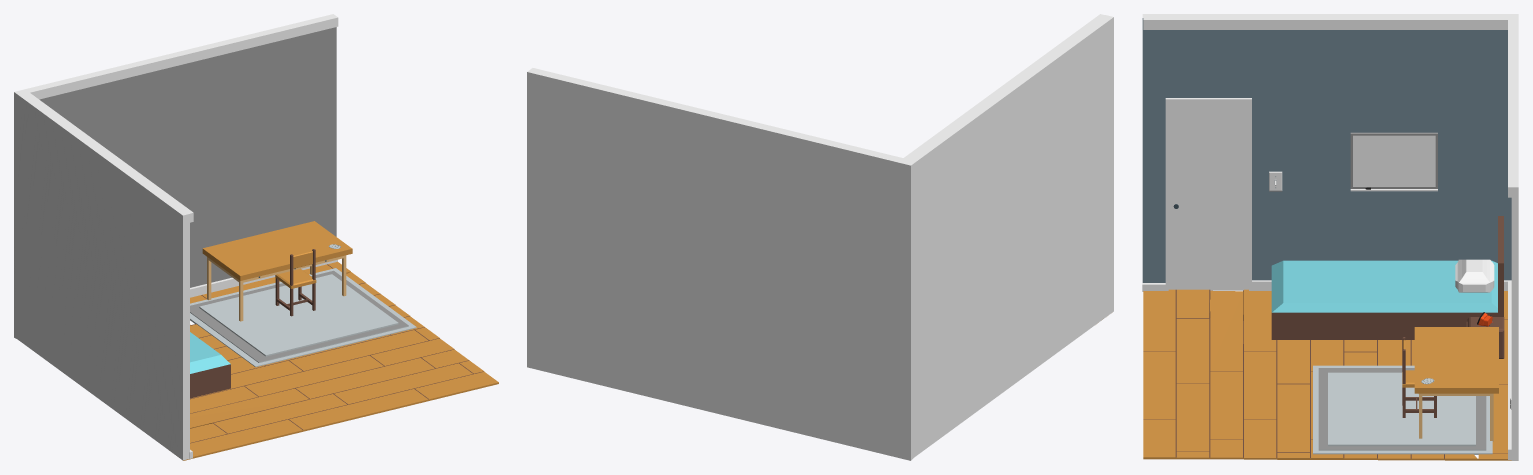
The model's file is isometric-room-new.glb.
The picture shows the model from 3 angles, left to right: view 1: azimuth 30°, elevation 25°; view 2: azimuth 150°, elevation 25°; view 3: azimuth 270°, elevation 25°; orthographic projection. The views are drawn at different scales.
Visible parts, largest first — view 1: Node; view 2: Node; view 3: Node.
Part boxes in pixels (x1,y1,x2,y2): Node: [14, 14, 498, 460]; Node: [527, 14, 1113, 460]; Node: [1142, 14, 1518, 460].
Bounding box in the file's own units: 4.04 × 2.97 × 3.71.
